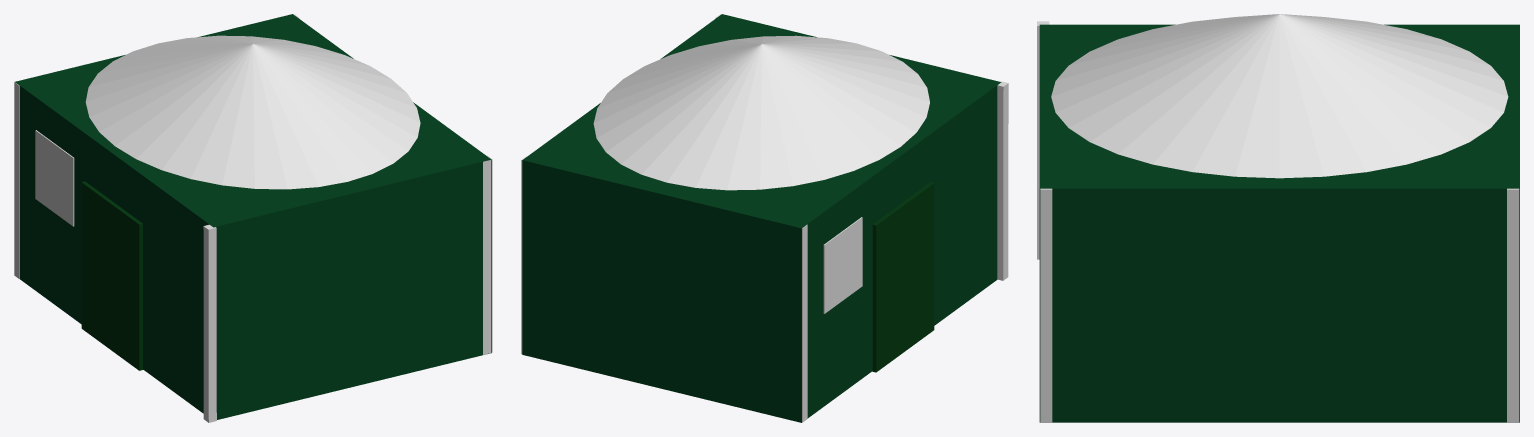
The model's file is дом клейка.fbx.
The picture shows the model from 3 angles, left to right: view 1: azimuth 30°, elevation 25°; view 2: azimuth 150°, elevation 25°; view 3: azimuth 270°, elevation 25°; orthographic projection. The views are drawn at different scales.
Visible parts, largest first — view 1: Cube, Cone, Cube.006, Cube.007, Cube.002, Cube.001, Cube.003; view 2: Cube, Cone, Cube.006, Cube.007, Cube.002, Cube.003; view 3: Cube, Cone, Cube.004, Cube.005, Cube.002.
Boxes of the visible parts, bbox=[...] form: Cube: bbox=[15, 14, 491, 419]; Cone: bbox=[85, 35, 420, 189]; Cube.006: bbox=[81, 181, 143, 370]; Cube.007: bbox=[35, 130, 74, 226]; Cube.002: bbox=[203, 224, 216, 422]; Cube.001: bbox=[483, 160, 490, 354]; Cube.003: bbox=[14, 82, 19, 279]; Cube: bbox=[522, 14, 1001, 422]; Cone: bbox=[593, 35, 929, 190]; Cube.006: bbox=[872, 182, 934, 372]; Cube.007: bbox=[823, 217, 862, 313]; Cube.002: bbox=[997, 81, 1008, 280]; Cube.003: bbox=[802, 224, 807, 422]; Cube: bbox=[1039, 24, 1519, 422]; Cone: bbox=[1051, 14, 1508, 178]; Cube.004: bbox=[1507, 188, 1519, 422]; Cube.005: bbox=[1040, 188, 1052, 422]; Cube.002: bbox=[1037, 21, 1049, 259].
Bounding box in the file's own units: 870 × 790 × 1056.
